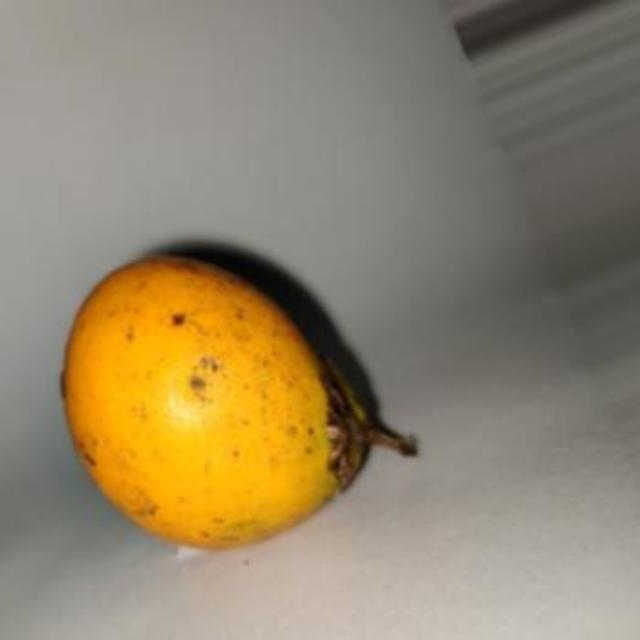good: (62, 254, 404, 552)
